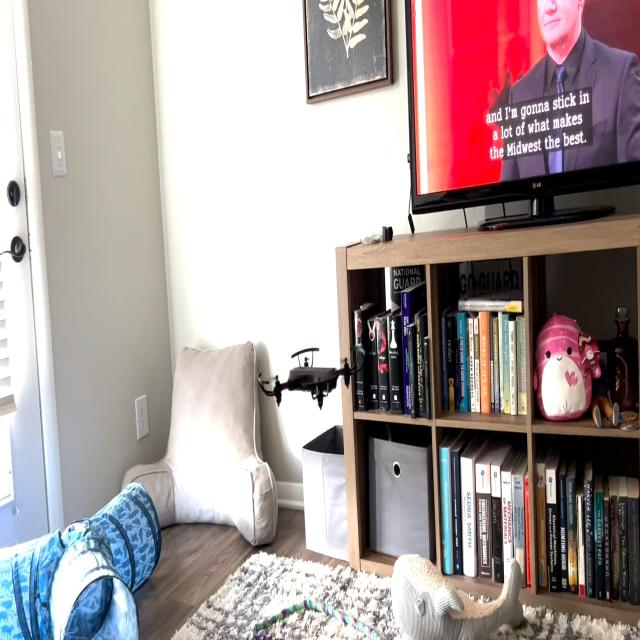drone: (252, 336, 372, 424)
